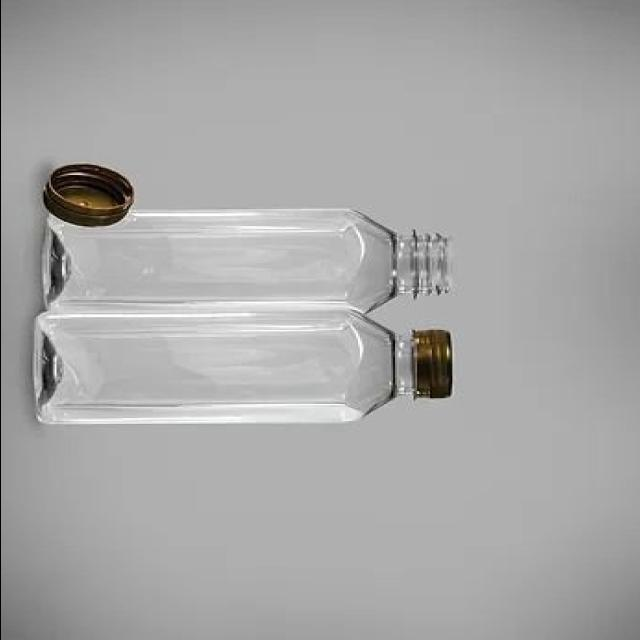bottle: (33, 305, 453, 425), (42, 209, 454, 312)
